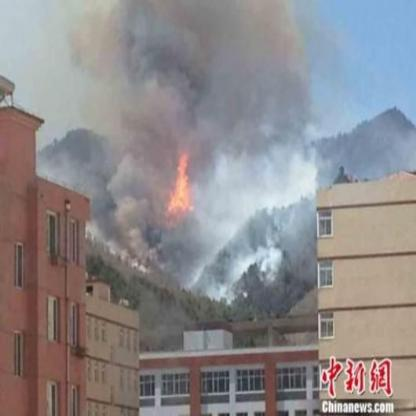fire: (169, 157, 197, 222)
smoke: (90, 2, 310, 139)
